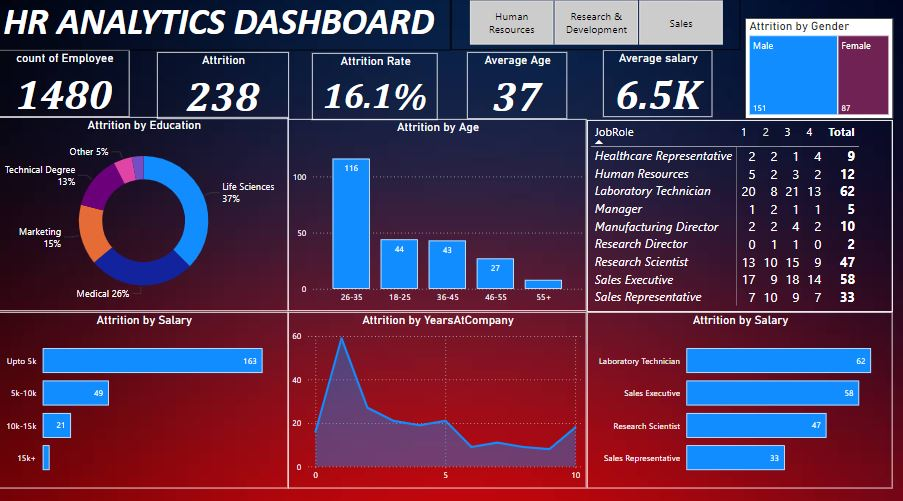

The dashboard page shown, as its layout file describes it:
{"tool":"powerbi","page":{"name":"HR ANALYTICS DASHBOARD","canvas":[1280,720],"ordinal":0},"visuals":[{"type":"card","title":"count of Employee","fields":{"Values":["CountNonNull(HR_Analytics.EmpID)"]},"box":[0,80,185,95],"z":0},{"type":"card","title":"Attrition","fields":{"Values":["Sum(HR_Analytics.AttritionCount)"]},"box":[223.3,81.7,186.7,95],"z":1000},{"type":"card","title":"Average Age","fields":{"Values":["Avg(HR_Analytics.Age)"]},"box":[663.3,81.7,141.7,95],"z":2000},{"type":"card","title":"Attrition Rate","fields":{"Values":["HR_Analytics.Attrition_Rate"]},"box":[443.3,83.3,178.3,95],"z":3000},{"type":"card","title":"Average salary","fields":{"Values":["Avg(HR_Analytics.MonthlyIncome)"]},"box":[856.7,80,155,95],"z":4000},{"type":"donutChart","title":"Attrition by Education","fields":{"Category":["HR_Analytics.EducationField"],"Y":["Sum(HR_Analytics.AttritionCount)"]},"box":[0,175,410,275],"z":5000},{"type":"columnChart","title":"Attrition by Age","fields":{"Category":["HR_Analytics.AgeGroup"],"Y":["Sum(HR_Analytics.AttritionCount)"]},"box":[410,176.7,423.3,271.7],"z":6000},{"type":"pivotTable","fields":{"Rows":["HR_Analytics.JobRole"],"Columns":["HR_Analytics.JobSatisfaction"],"Values":["Sum(HR_Analytics.AttritionCount)"]},"box":[833.3,178.3,433.3,271.7],"z":7000},{"type":"barChart","title":"Attrition by Salary","fields":{"Category":["HR_Analytics.SalarySlab"],"Y":["Sum(HR_Analytics.AttritionCount)"]},"box":[0,450,410,250],"z":8000},{"type":"barChart","title":"Attrition by Salary","fields":{"Y":["Sum(HR_Analytics.AttritionCount)"],"Category":["HR_Analytics.JobRole"]},"box":[833.3,450,433.3,250],"z":9000},{"type":"areaChart","title":"Attrition by YearsAtCompany","fields":{"Y":["Sum(HR_Analytics.AttritionCount)"],"Category":["HR_Analytics.YearsAtCompany"]},"box":[410,450,423.3,250],"z":10000},{"type":"treemap","title":"Attrition by Gender","fields":{"Group":["HR_Analytics.Gender"],"Values":["Sum(HR_Analytics.AttritionCount)"]},"box":[1056.7,33.3,210,143.3],"z":11000},{"type":"textbox","box":[0,0,640,80],"z":12000},{"type":"slicer","fields":{"Values":["HR_Analytics.Department"]},"box":[640,1.7,410,78.3],"z":13000}]}

Visuals, with their boxes in screenshot pixels (x1, y1, x2, y2), scaled from the page's 1280x720 canvas onto the 903x501 screenshot:
"count of Employee" card: detection(0, 56, 131, 122)
"Attrition" card: detection(158, 57, 289, 123)
"Average Age" card: detection(468, 57, 568, 123)
"Attrition Rate" card: detection(313, 58, 439, 124)
"Average salary" card: detection(604, 56, 714, 122)
"Attrition by Education" donutChart: detection(0, 122, 289, 313)
"Attrition by Age" columnChart: detection(289, 123, 588, 312)
pivotTable - HR_Analytics.JobRole x HR_Analytics.JobSatisfaction: detection(588, 124, 894, 313)
"Attrition by Salary" barChart: detection(0, 313, 289, 487)
"Attrition by Salary" barChart: detection(588, 313, 894, 487)
"Attrition by YearsAtCompany" areaChart: detection(289, 313, 588, 487)
"Attrition by Gender" treemap: detection(745, 23, 894, 123)
textbox: detection(0, 0, 452, 56)
slicer - HR_Analytics.Department: detection(452, 1, 741, 56)
